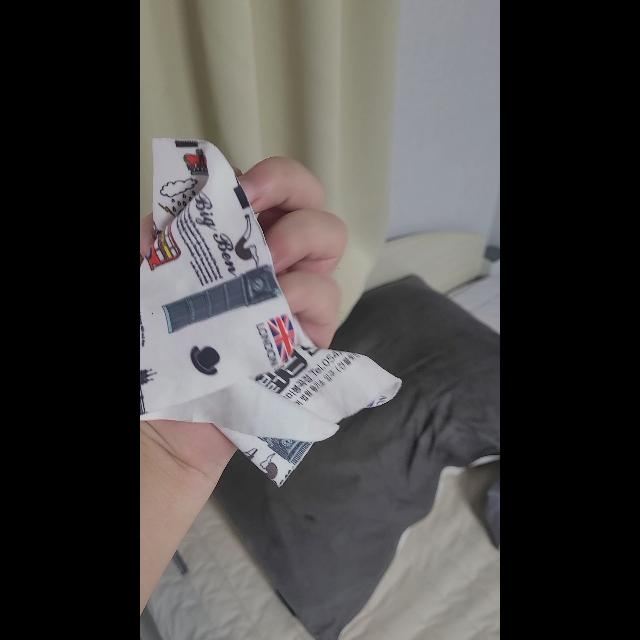Glasses cleaning cloth: (140, 137, 402, 487)
